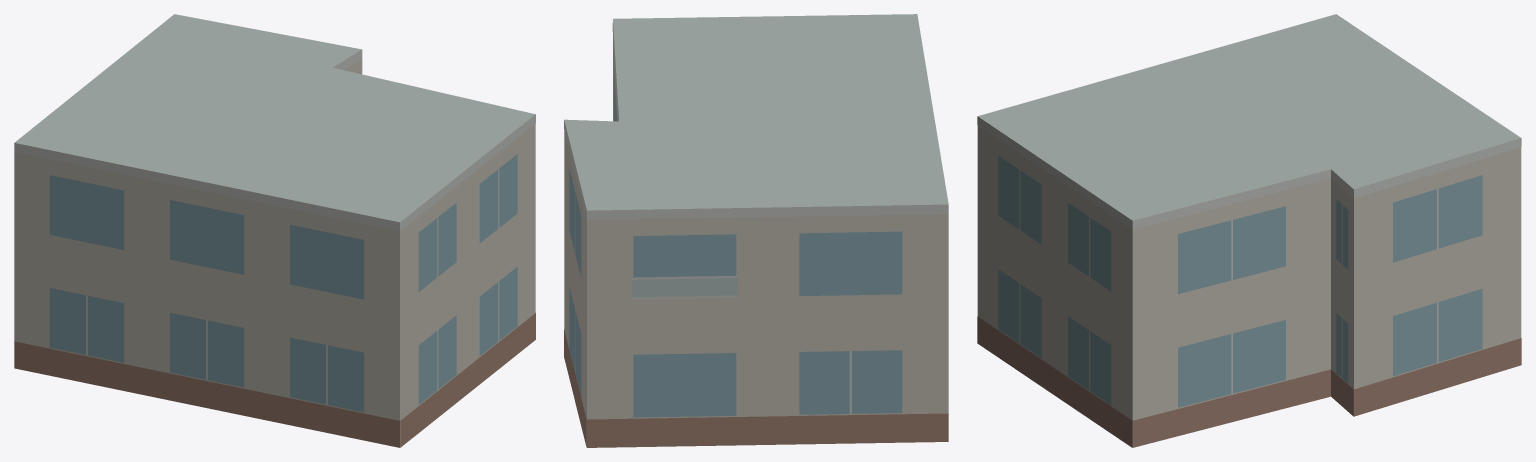
The model's file is survey-upis-32888262.glb.
The picture shows the model from 3 angles, left to right: view 1: azimuth 30°, elevation 25°; view 2: azimuth 150°, elevation 25°; view 3: azimuth 270°, elevation 25°; orthographic projection. The views are drawn at different scales.
Visible parts, largest first — view 1: survey-upis-32888262.tmp; view 2: survey-upis-32888262.tmp; view 3: survey-upis-32888262.tmp.
Boxes of the visible parts, <box> form: survey-upis-32888262.tmp: <box>14,14,535,447</box>; survey-upis-32888262.tmp: <box>564,14,948,447</box>; survey-upis-32888262.tmp: <box>977,14,1521,447</box>.
Size of the model in its own units: 11.91 by 6.1 by 13.24.
